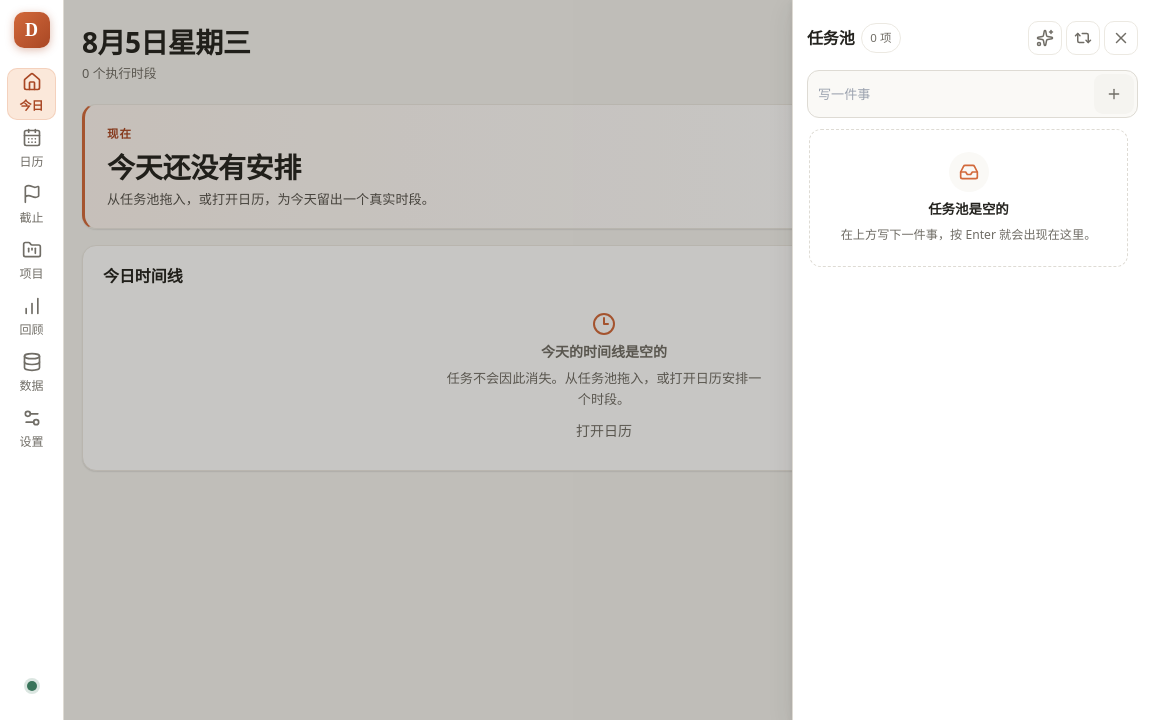
phase 1 manual alpha › lets the task pool collapse without removing its tasks
This screenshot has width=1152, height=720.
Click the button named "收起任务池" at (1121, 38), box [1104,21,1138,55]
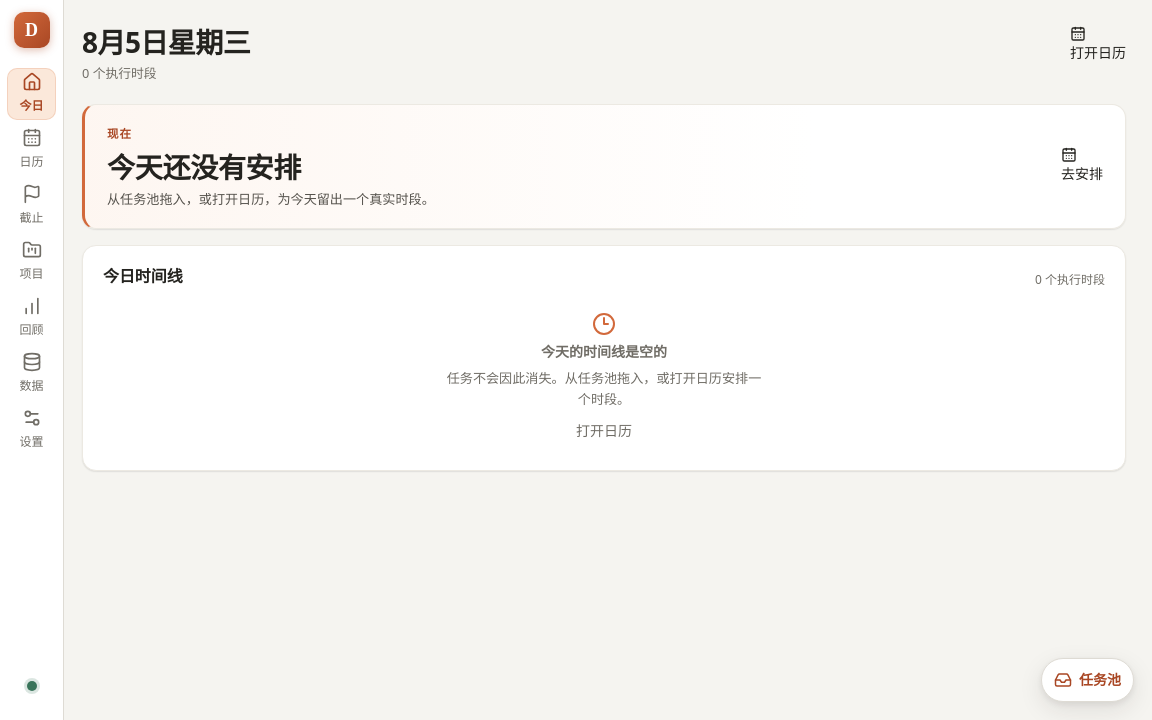
expect the element with class "app-shell" has class "without-task-pool": met
Click the button with aria-label "打开任务池" at (1088, 680), box [1041,658,1134,702]
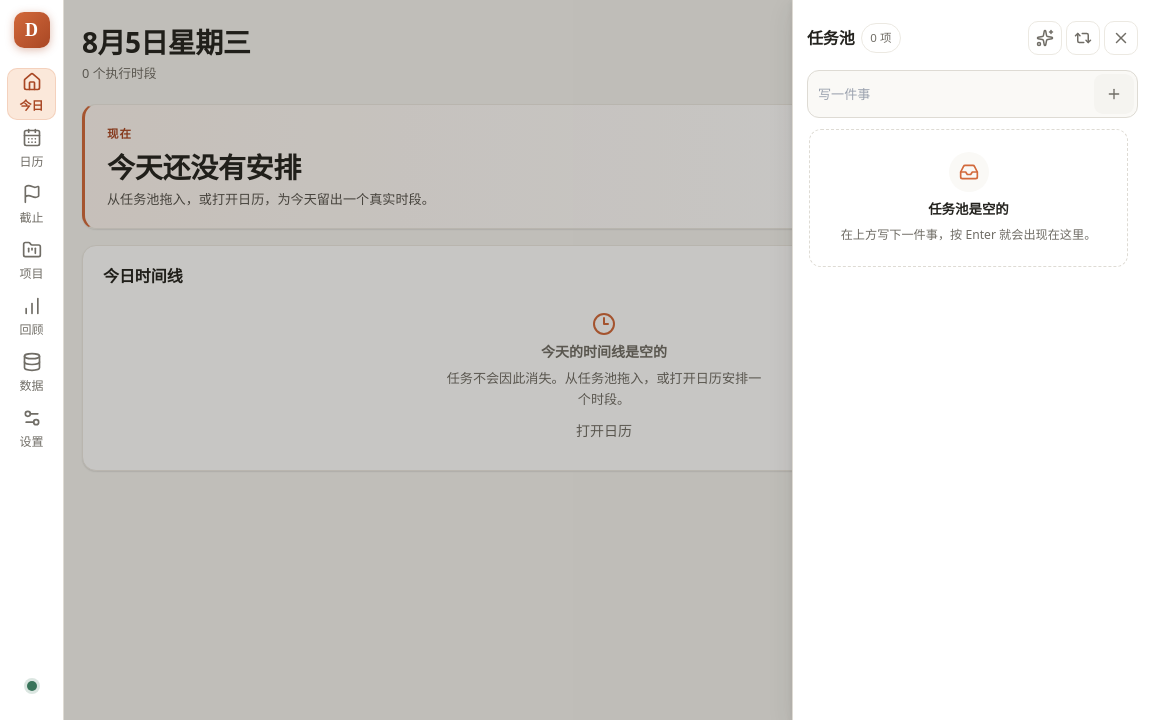
expect the element "任务池 0 项 任务池是空的 在上方写下一件事，按 Enter 就会出现在这里。" is shown: met, box [792,0,1151,719]
